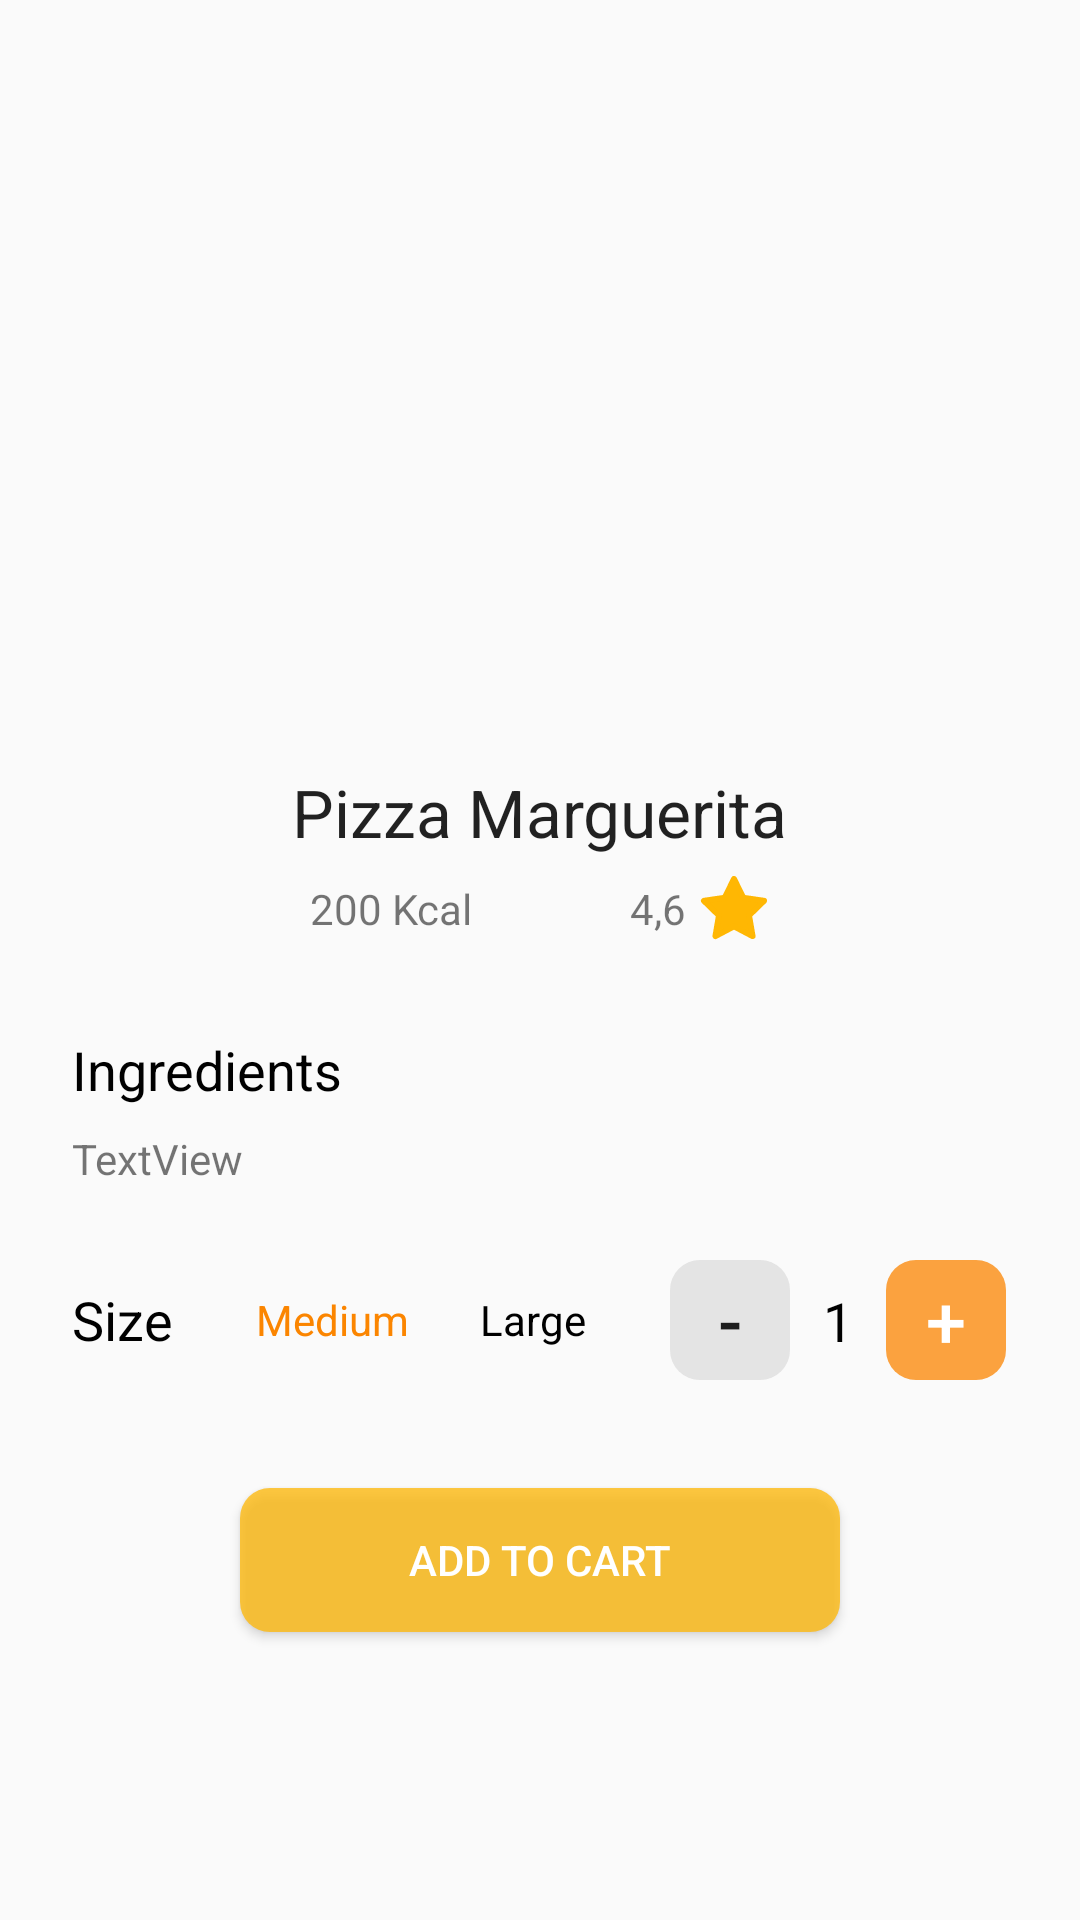

Where to tap for icons on this 1080 × 1920 app screen, as (x=x, y=y):
star: (x=733, y=908)
